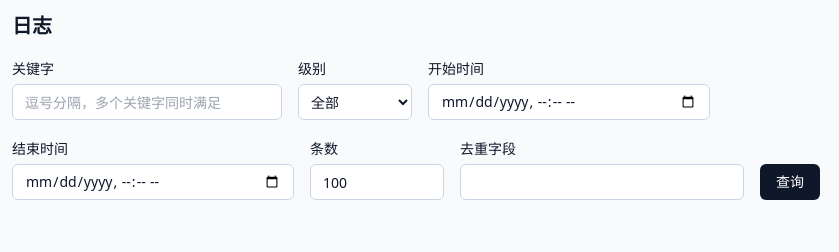
Scenario: shows a 400 error inline
The image size is (839, 252).
Replace the text in the number field labelled "条数" with "9999": (377, 182) [310,164,444,200]
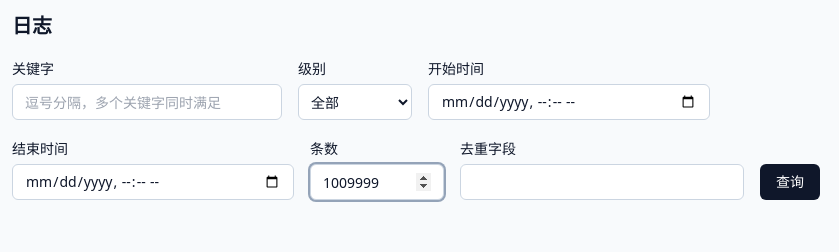
Click the button "查询": (790, 182) [760,164,820,200]
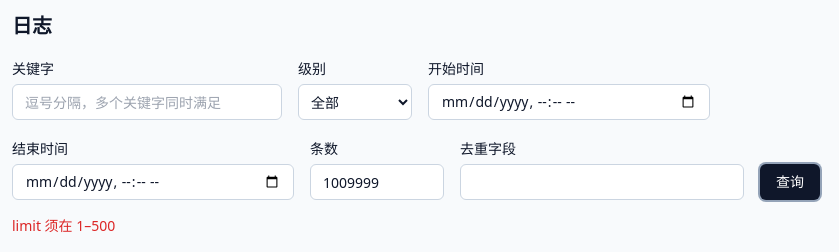
Check: the message reads "limit 须在 1–500", box [12,216,115,235]
